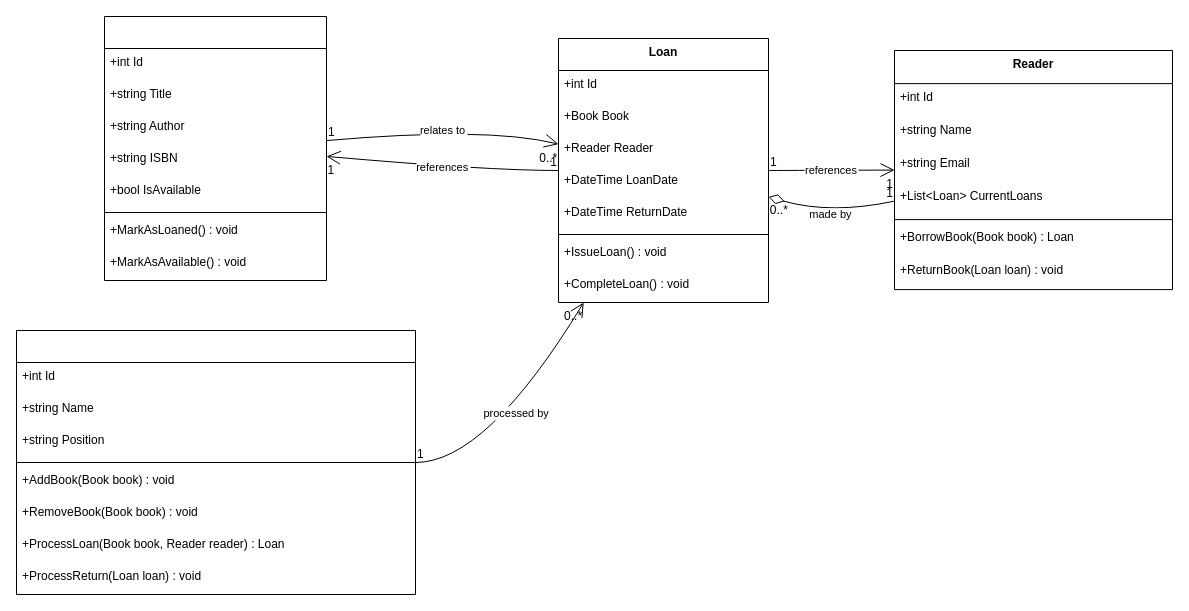
This 1189x611 diagram has some shape labels left out. Each missing label, with the box of its shape:
Book: (104, 16, 326, 280)
Librarian: (16, 330, 416, 594)
